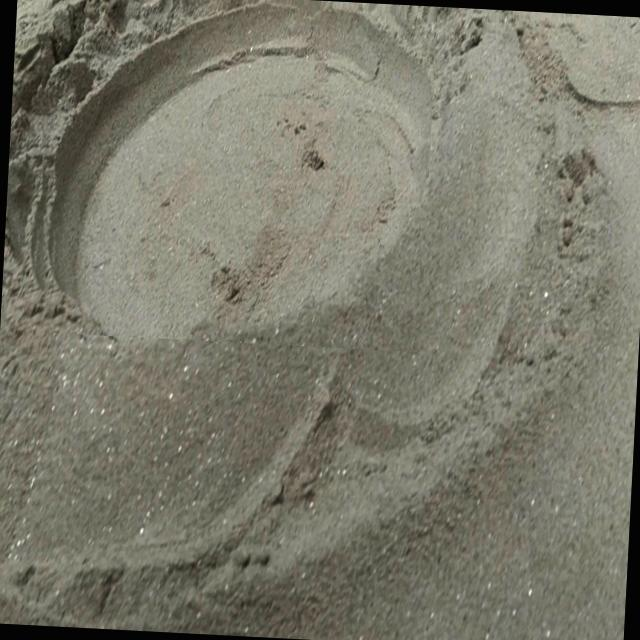C40: (39, 0, 432, 336)
